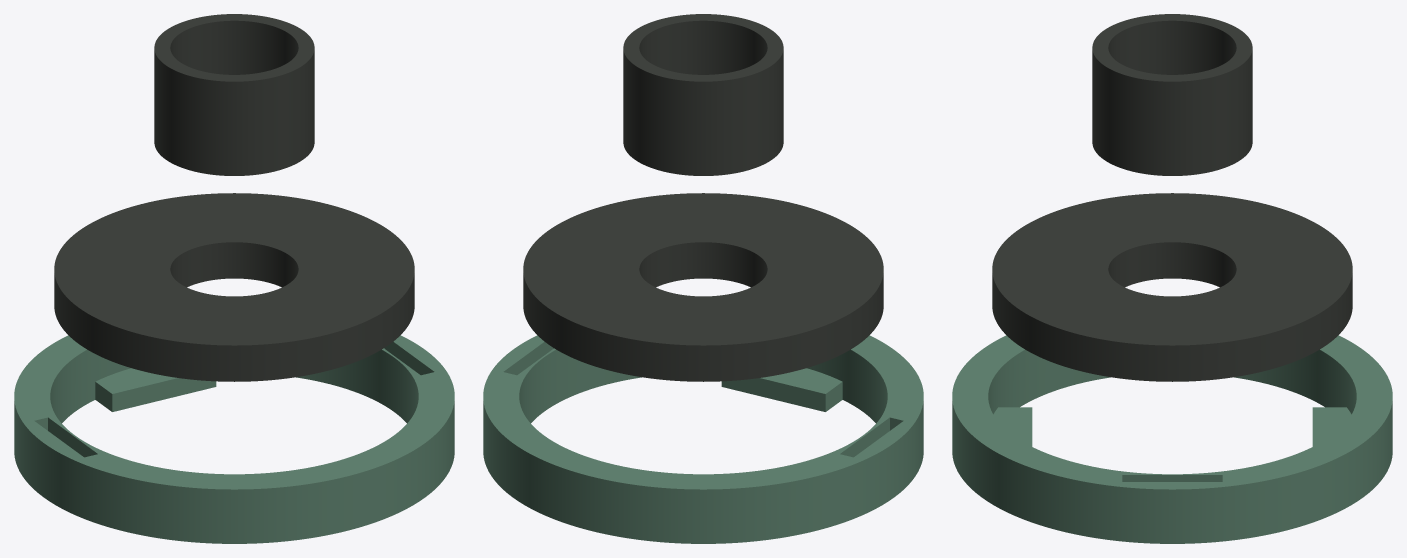
Rendered from exploded.glb.
3 views of the same model, side by side, from view 1: azimuth 30°, elevation 25°; view 2: azimuth 150°, elevation 25°; view 3: azimuth 270°, elevation 25° (orthographic).
Visible parts, largest first — view 1: steel-washer, washer-carrier, steel-spacer; view 2: steel-washer, washer-carrier, steel-spacer; view 3: steel-washer, washer-carrier, steel-spacer.
Part boxes in pixels (<box>): steel-washer: <box>54,193,414,381</box>; washer-carrier: <box>14,335,454,543</box>; steel-spacer: <box>154,14,314,175</box>; steel-washer: <box>523,193,883,381</box>; washer-carrier: <box>483,335,923,543</box>; steel-spacer: <box>623,14,783,175</box>; steel-washer: <box>992,193,1352,381</box>; washer-carrier: <box>952,335,1392,543</box>; steel-spacer: <box>1092,14,1252,175</box>.
Size of the model in its own units: 0.022 by 0.0222 by 0.022.
